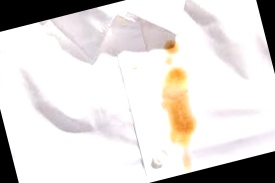coffee: (159, 68, 198, 139), (165, 39, 180, 55)
